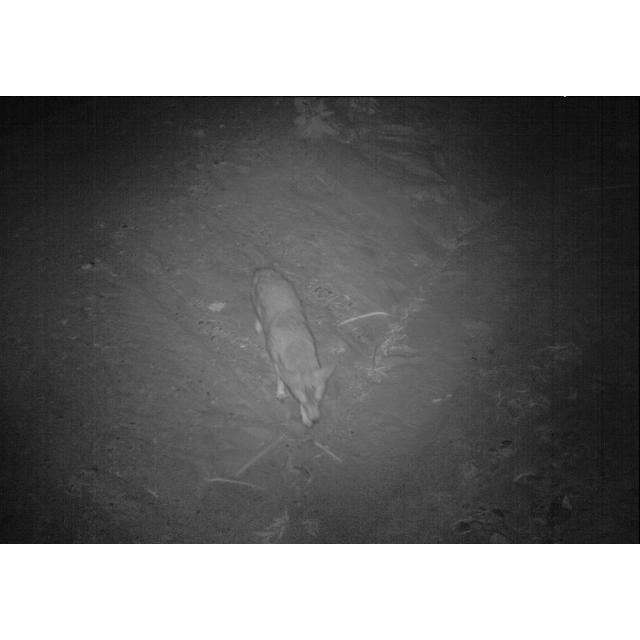animals: (250, 263, 332, 431)
